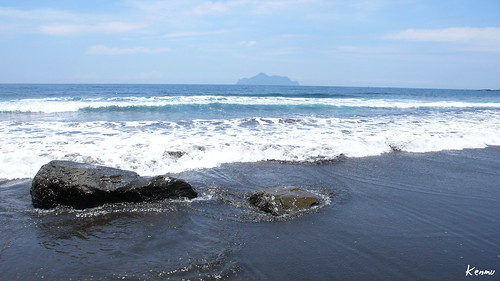turtleIslandLeft: (236, 72, 298, 87)
